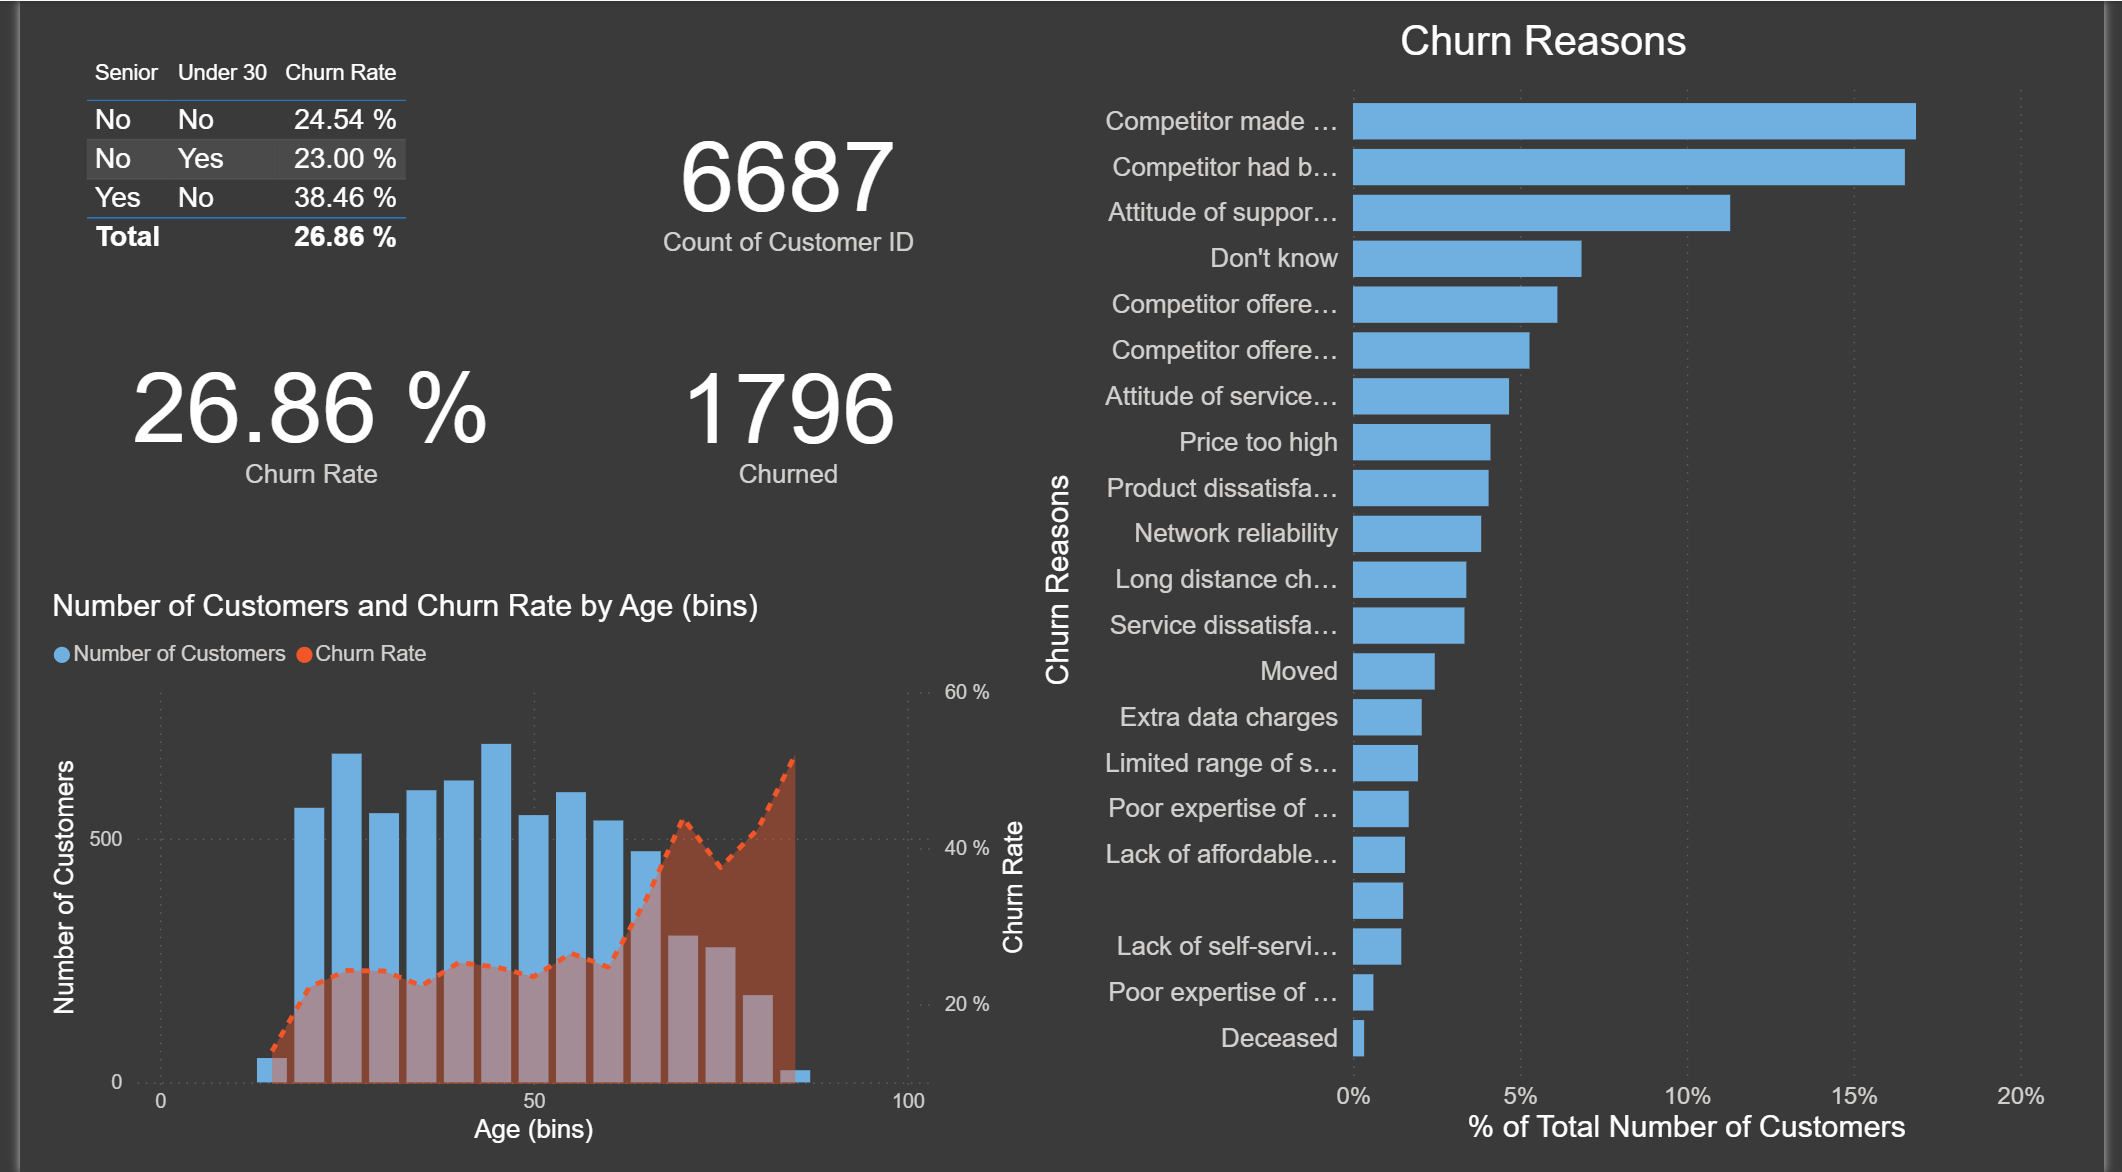

This screenshot's page, from the dashboard's own definition file:
{"tool":"powerbi","page":{"name":"Churn Demographics","canvas":[1280,720],"ordinal":0},"visuals":[{"type":"tableEx","fields":{"Values":["Databel - Data.Senior","Databel - Data.Under 30","Databel - Data.Churn Rate"]},"box":[35.2,30.8,280.1,161.3],"z":0},{"type":"clusteredBarChart","title":"Churn Reasons","fields":{"Category":["Databel - Data.Churn Reason"],"Y":["CountNonNull(Databel - Data.Number of Customers in Group)"]},"box":[623.2,10.3,626.2,696.5],"z":1000},{"type":"card","fields":{"Values":["Databel - Data.Churn Rate"]},"box":[51.6,192.3,254.9,122.9],"z":2000},{"type":"lineStackedColumnComboChart","fields":{"Category":["Databel - Data.Age (bins)"],"Y":["Databel - Data.Number of costumers"],"Y2":["Databel - Data.Churn Rate"]},"box":[14.7,360.7,608.6,346.1],"z":3000},{"type":"card","fields":{"Values":["Count(Databel - Data.Customer ID)"]},"box":[366.6,49.9,211.2,123.2],"z":4000},{"type":"card","fields":{"Values":["Sum(Databel - Data.Churned)"]},"box":[366.6,192.1,211.2,123.2],"z":5000}]}

Visuals, with their boxes in screenshot pixels (x1, y1, x2, y2), scaled from the page's 1280x720 canvas onto the 2122x1172 screenshot:
tableEx - Databel - Data.Senior x Databel - Data.Under 30: (x1=58, y1=50, x2=523, y2=313)
"Churn Reasons" clusteredBarChart: (x1=1033, y1=17, x2=2071, y2=1151)
card - Databel - Data.Churn Rate: (x1=86, y1=313, x2=508, y2=513)
lineStackedColumnComboChart - Databel - Data.Age (bins) x Databel - Data.Number of costumers: (x1=24, y1=587, x2=1033, y2=1151)
card - Count(Databel - Data.Customer ID): (x1=608, y1=81, x2=958, y2=282)
card - Sum(Databel - Data.Churned): (x1=608, y1=313, x2=958, y2=513)
